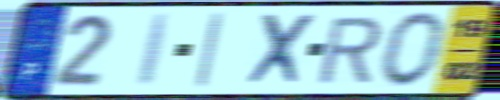2: (49, 12, 117, 90)
I: (134, 12, 176, 89), (192, 10, 227, 90)
O: (378, 10, 450, 90)
R: (315, 14, 385, 86)
X: (242, 12, 319, 88)
